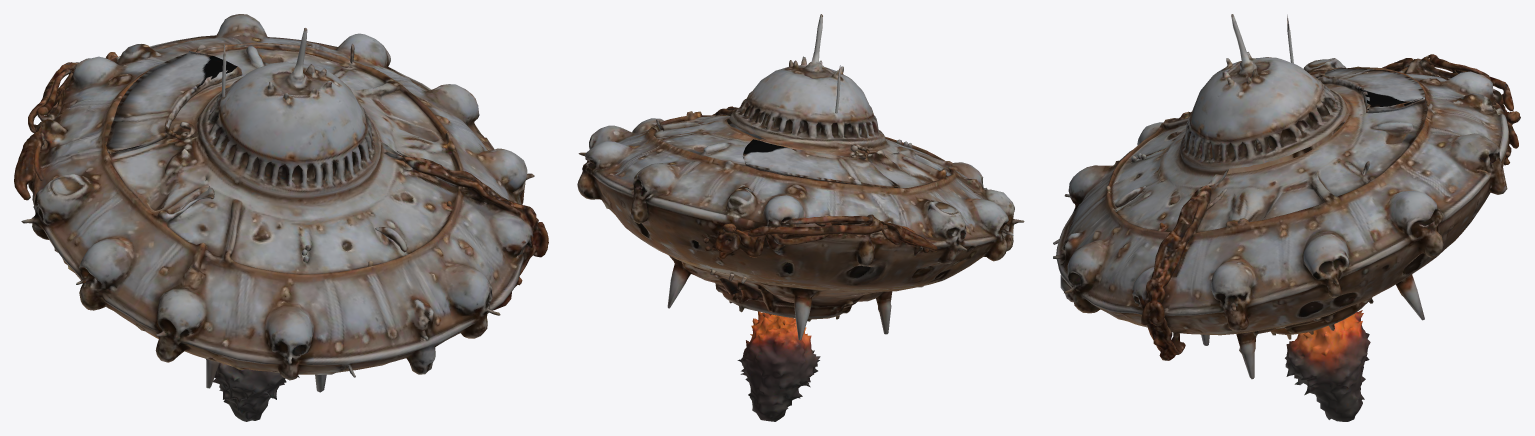
The model's file is Heavy_Metal_Apocalypse_UFO_LOD1.glb.
The picture shows the model from 3 angles, left to right: view 1: azimuth 30°, elevation 25°; view 2: azimuth 150°, elevation 25°; view 3: azimuth 270°, elevation 25°; orthographic projection. The views are drawn at different scales.
Visible parts, largest first — view 1: tripo_node_940de528-5bed-4f21-9197-07d8c8eafb20; view 2: tripo_node_940de528-5bed-4f21-9197-07d8c8eafb20; view 3: tripo_node_940de528-5bed-4f21-9197-07d8c8eafb20.
Part boxes in pixels (x1,y1,x2,y2): tripo_node_940de528-5bed-4f21-9197-07d8c8eafb20: [14, 14, 548, 421]; tripo_node_940de528-5bed-4f21-9197-07d8c8eafb20: [577, 14, 1024, 421]; tripo_node_940de528-5bed-4f21-9197-07d8c8eafb20: [1053, 14, 1520, 421].
Size of the model in its own units: 1 by 0.9061 by 0.9452.
Materials: 1 (1 with a texture image).
